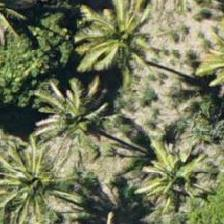coconut_tree: (116, 117, 206, 207), (29, 66, 119, 156), (79, 0, 169, 87), (0, 149, 73, 223)
